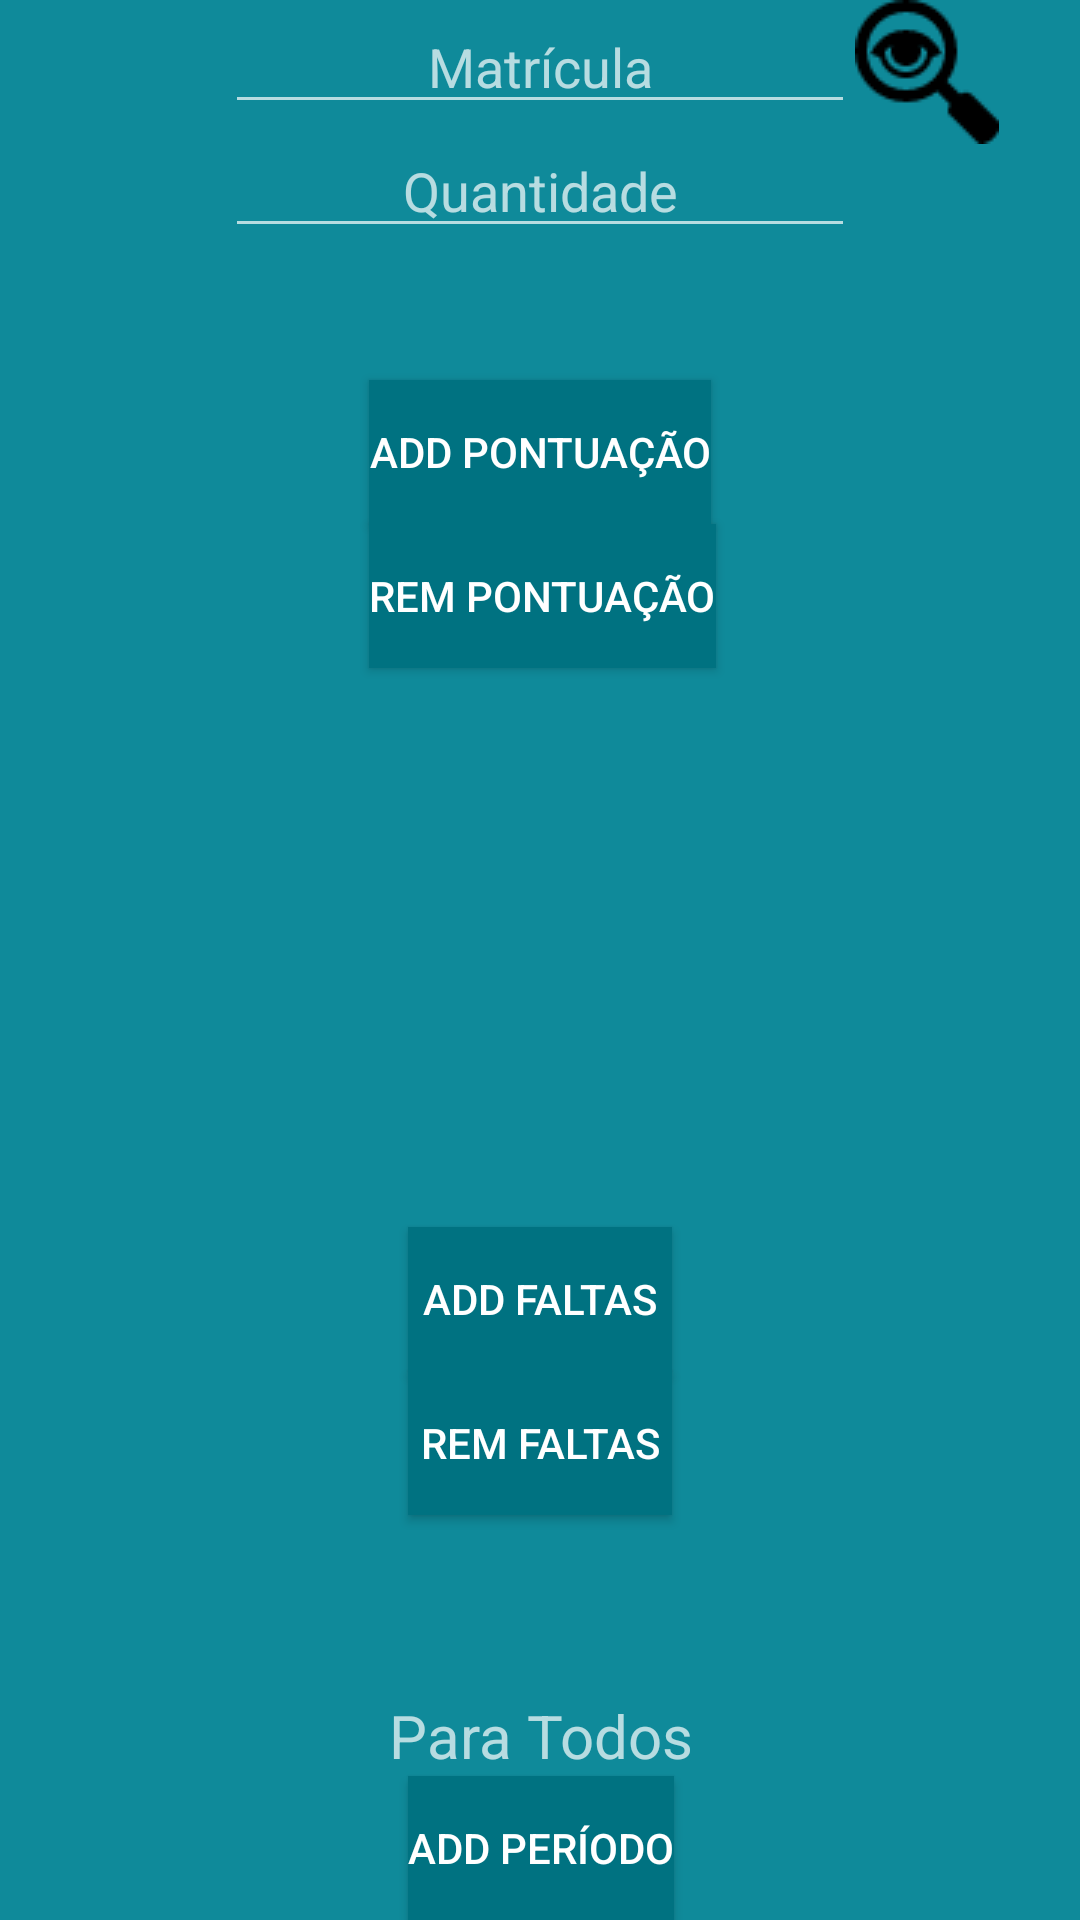

Icons on this 1080 x 1920 Android screen, each with the point to tap as [x,y]:
search: [927,72]
